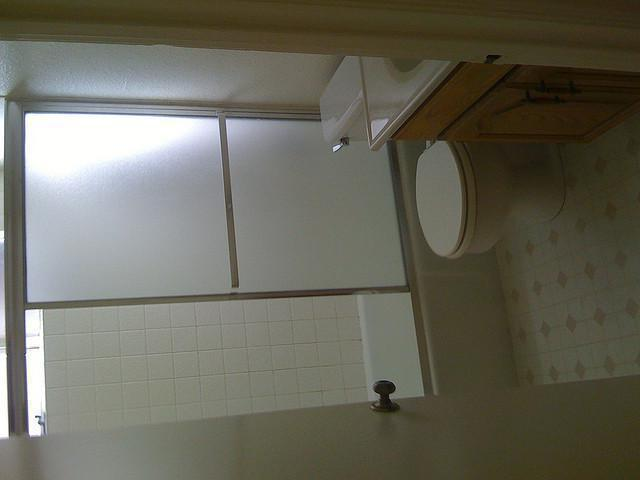Ducha: (0, 107, 465, 479)
Lavamanos: (332, 11, 456, 135)
